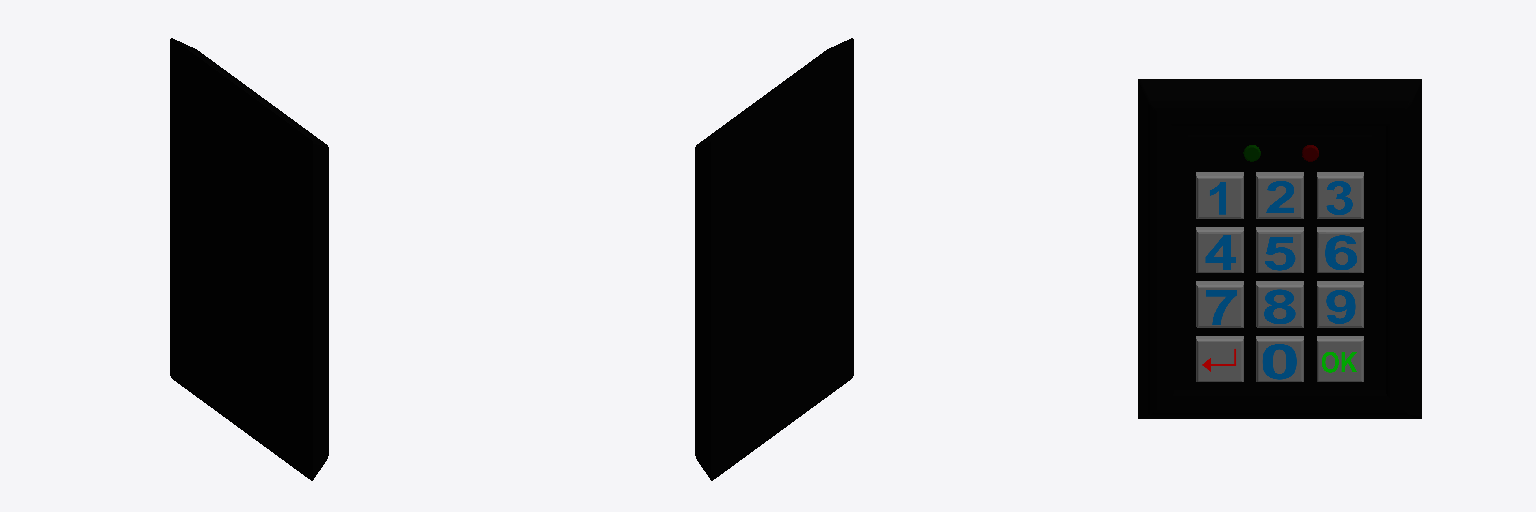
3 renders of one model, left to right at view 1: azimuth 30°, elevation 25°; view 2: azimuth 150°, elevation 25°; view 3: azimuth 270°, elevation 25°, orthographic.
Parts seen in each view (by area): view 1: Cube; view 2: Cube; view 3: Cube, Cube.001_Cube.002.
Boxes of the visible parts, box(x1,y1,x2,y2) form: Cube: box(170, 38, 328, 480); Cube: box(695, 38, 853, 480); Cube: box(1138, 79, 1421, 418); Cube.001_Cube.002: box(1196, 172, 1363, 381).
Size of the model in its own units: 0.0139 by 0.1588 by 0.1203.
4 materials, 1 textured.